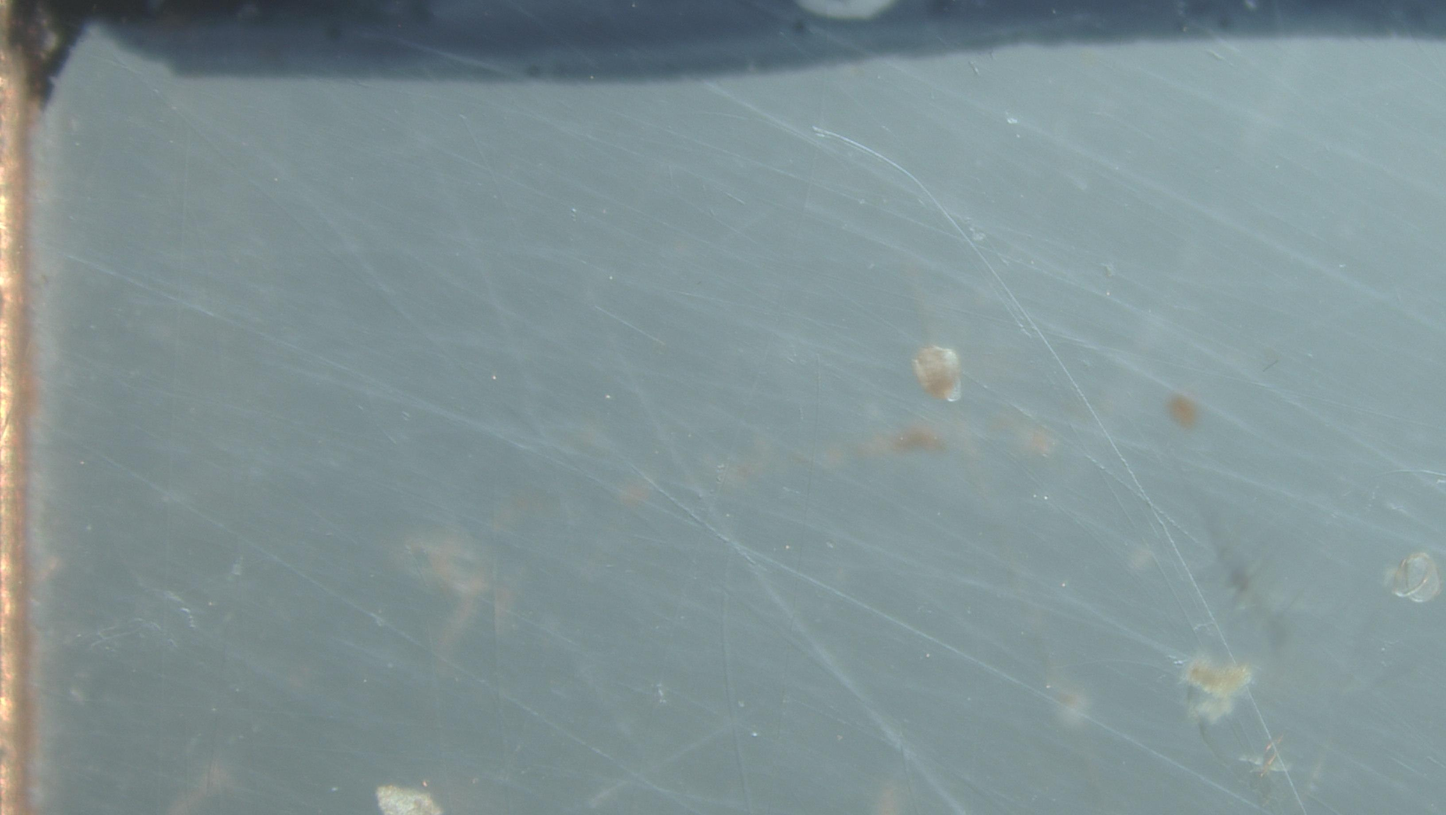live: (912, 346, 962, 402)
